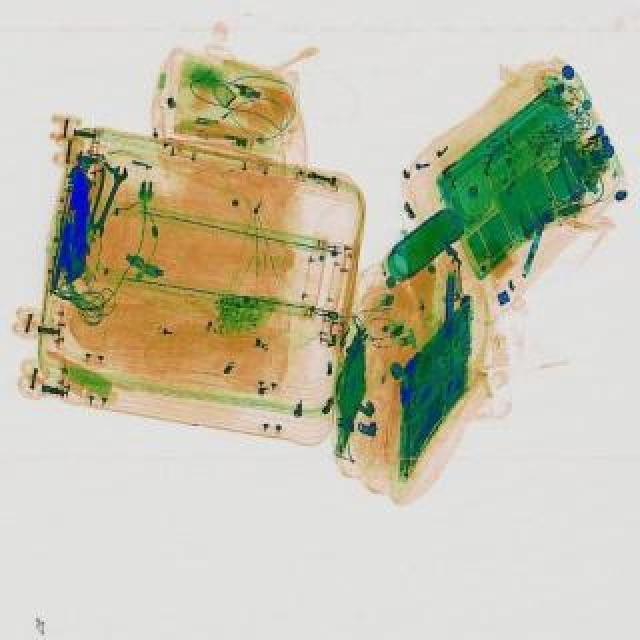scissors: (88, 168, 132, 242)
